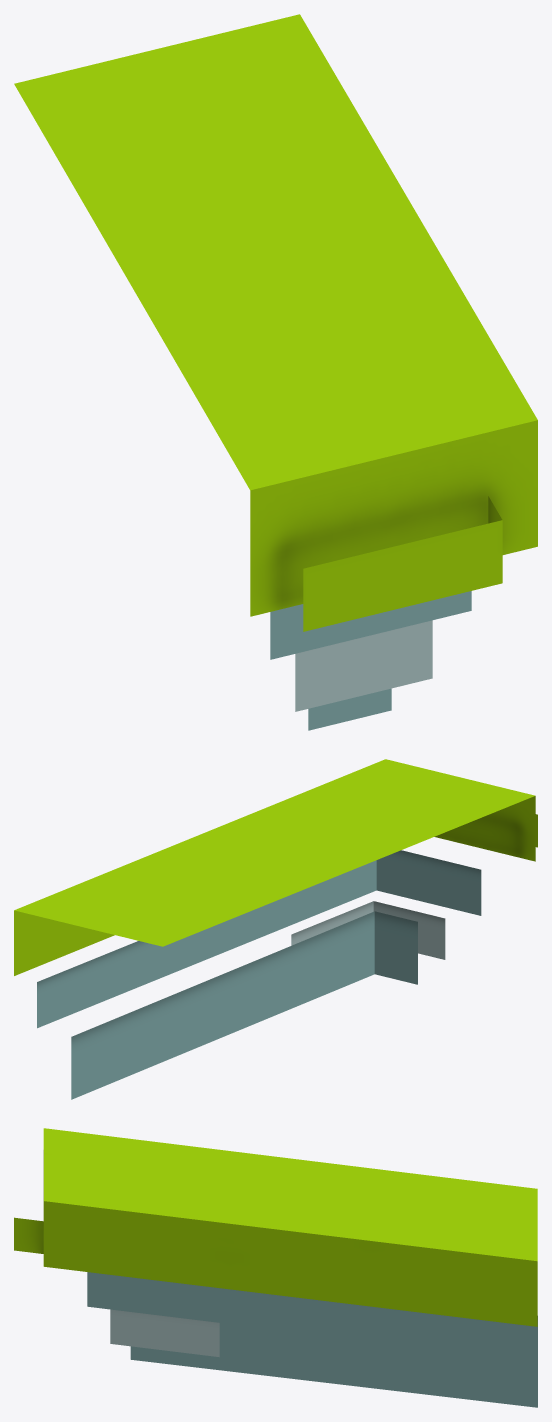
Rendered from Field_Type_03_01.FBX.
The picture shows the model from 3 angles, top to bottom: view 1: azimuth 30°, elevation 25°; view 2: azimuth 150°, elevation 25°; view 3: azimuth 270°, elevation 25°; orthographic projection. The views are drawn at different scales.
Parts seen in each view (by area): view 1: Field_Type_03_01; view 2: Field_Type_03_01; view 3: Field_Type_03_01.
Boxes of the visible parts, box(x1,y1,x2,y2) form: Field_Type_03_01: box(14, 14, 537, 730); Field_Type_03_01: box(14, 759, 537, 1099); Field_Type_03_01: box(14, 1128, 537, 1407).
Size of the model in its own units: 6.88 by 4.21 by 11.45.
